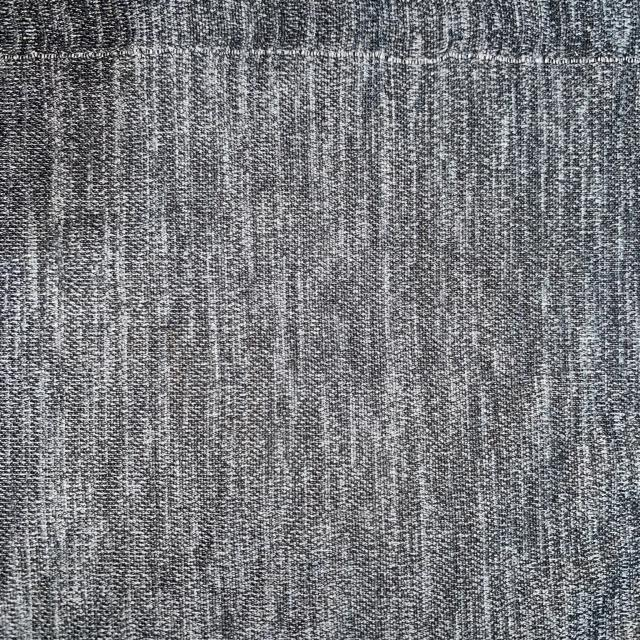Line: (4, 46, 640, 69)
